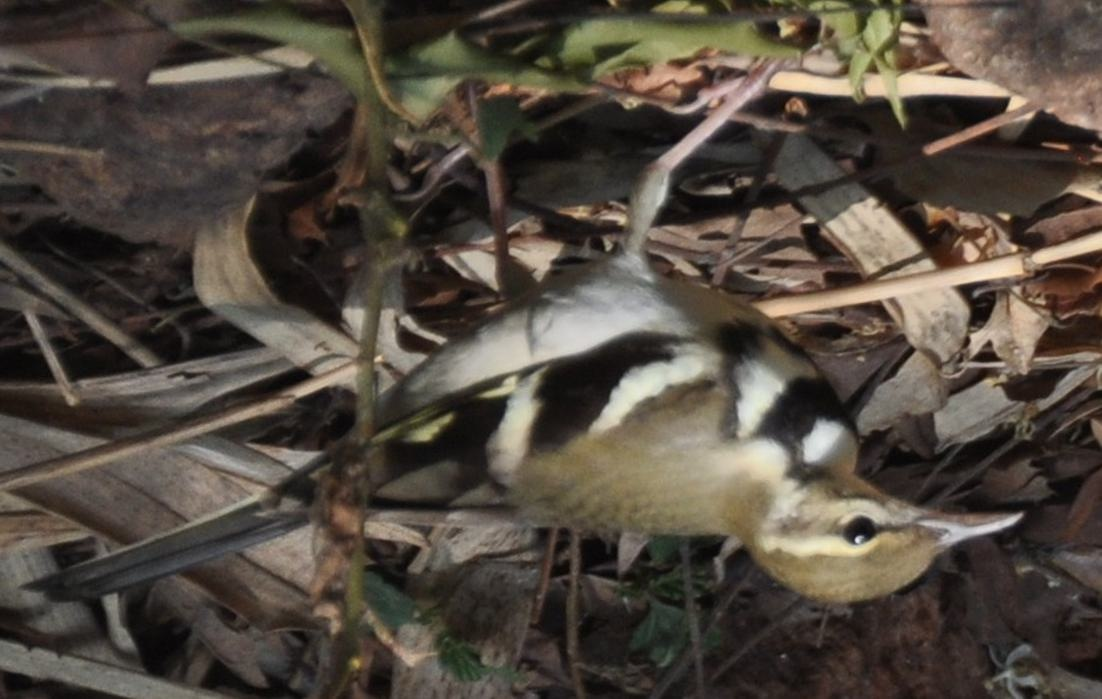wagtail: (209, 201, 927, 572)
